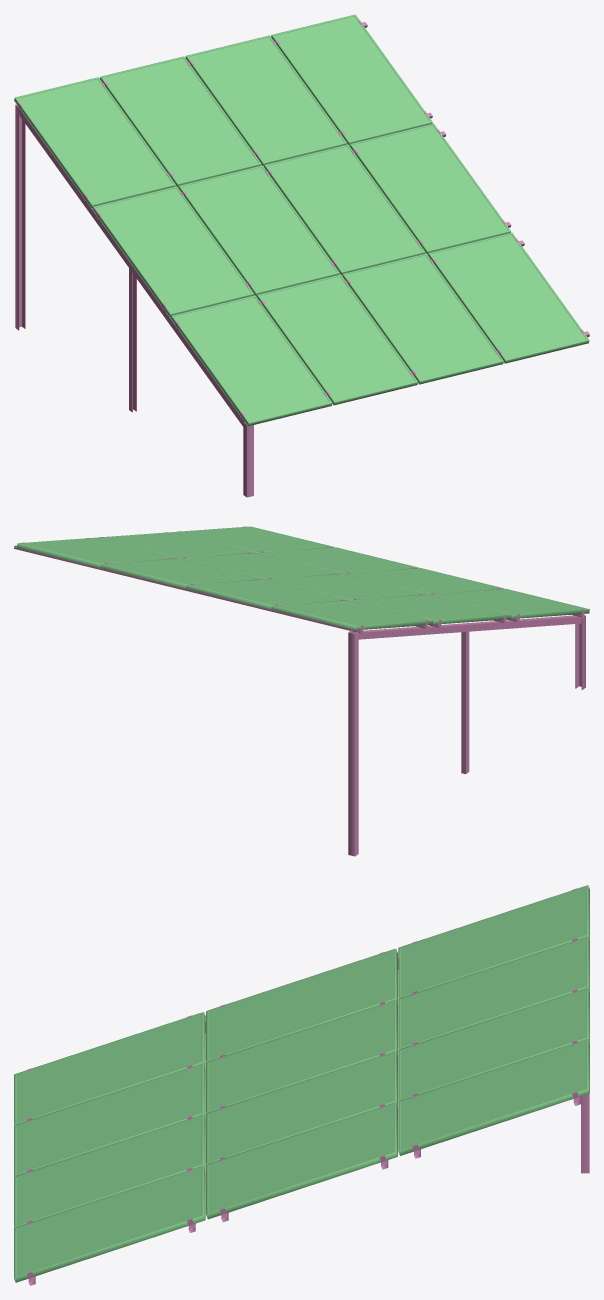
The model's file is Panel_3_End.fbx.
3 renders of one model, top to bottom at view 1: azimuth 30°, elevation 25°; view 2: azimuth 150°, elevation 25°; view 3: azimuth 270°, elevation 25°, orthographic. The views are drawn at different scales.
Visible parts, largest first — view 1: Panel_3_End_LOD0; view 2: Panel_3_End_LOD0; view 3: Panel_3_End_LOD0.
Part boxes in pixels (x1=…): Panel_3_End_LOD0: x1=14, y1=14, x2=589, y2=497; Panel_3_End_LOD0: x1=14, y1=526, x2=589, y2=856; Panel_3_End_LOD0: x1=14, y1=885, x2=589, y2=1285.
Size of what is drawn, in the model's own units: 4.14 by 2.63 by 4.84.
